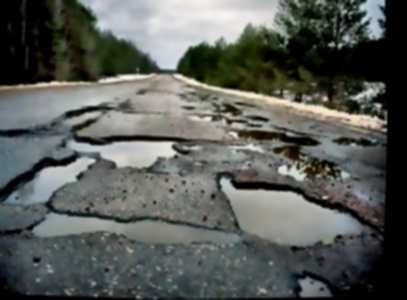pothole: (210, 165, 386, 256), (27, 202, 240, 254), (0, 149, 100, 211), (61, 132, 191, 175), (270, 142, 349, 183), (51, 100, 115, 136), (225, 123, 321, 146), (293, 267, 338, 298), (331, 133, 380, 147), (0, 124, 34, 140)
